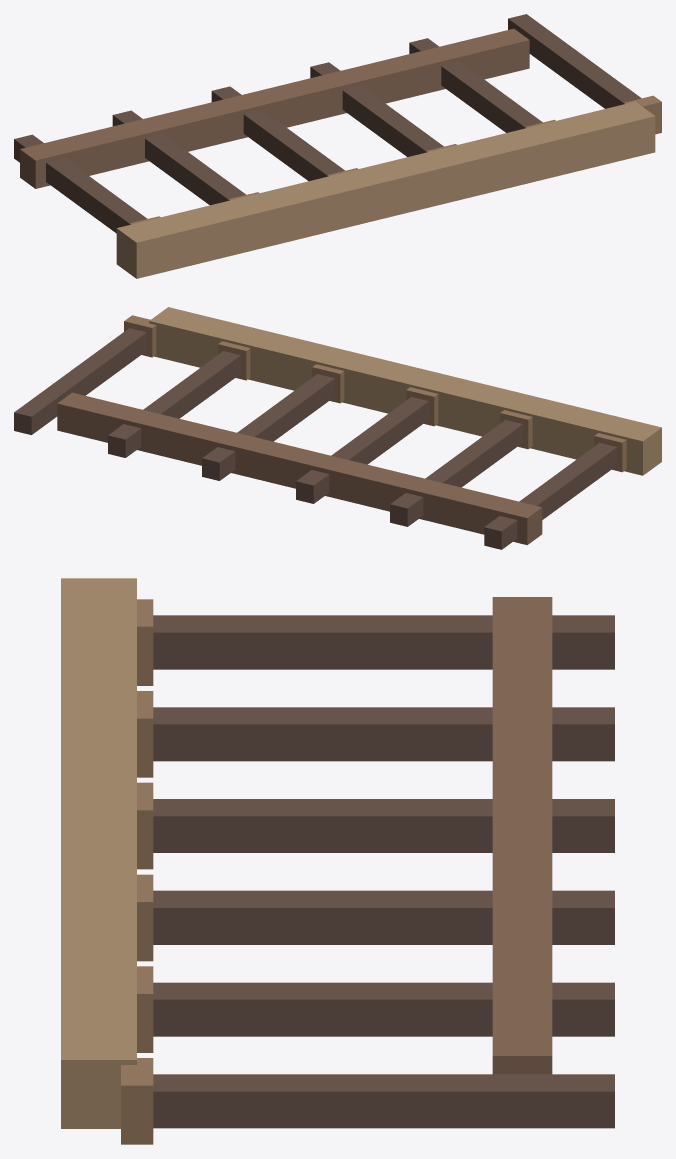
Rendered from balcony_railing_segment_2m.glb.
3 renders of one model, top to bottom at view 1: azimuth 30°, elevation 25°; view 2: azimuth 150°, elevation 25°; view 3: azimuth 270°, elevation 25°, orthographic. The views are drawn at different scales.
Visible parts, largest first — view 1: balcony_railing_segment_2m_012, balcony_railing_segment_2m_013, balcony_railing_segment_2m_010, balcony_railing_segment_2m_000, balcony_railing_segment_2m_004, balcony_railing_segment_2m_006, balcony_railing_segment_2m_008, balcony_railing_segment_2m_002, balcony_railing_segment_2m_011; view 2: balcony_railing_segment_2m_012, balcony_railing_segment_2m_013, balcony_railing_segment_2m_010, balcony_railing_segment_2m_000, balcony_railing_segment_2m_002, balcony_railing_segment_2m_008, balcony_railing_segment_2m_004, balcony_railing_segment_2m_006, balcony_railing_segment_2m_011, balcony_railing_segment_2m_003, balcony_railing_segment_2m_005, balcony_railing_segment_2m_001 (+2 smaller); view 3: balcony_railing_segment_2m_012, balcony_railing_segment_2m_013, balcony_railing_segment_2m_010, balcony_railing_segment_2m_000, balcony_railing_segment_2m_002, balcony_railing_segment_2m_006, balcony_railing_segment_2m_008, balcony_railing_segment_2m_004, balcony_railing_segment_2m_011, balcony_railing_segment_2m_005, balcony_railing_segment_2m_007, balcony_railing_segment_2m_001 (+2 smaller).
Boxes of the visible parts, x1,y1,x2,y2 form: balcony_railing_segment_2m_012: [116, 101, 655, 278]; balcony_railing_segment_2m_013: [20, 28, 529, 188]; balcony_railing_segment_2m_010: [508, 14, 641, 108]; balcony_railing_segment_2m_000: [14, 134, 147, 233]; balcony_railing_segment_2m_004: [211, 86, 344, 181]; balcony_railing_segment_2m_006: [310, 62, 443, 156]; balcony_railing_segment_2m_008: [409, 38, 542, 132]; balcony_railing_segment_2m_002: [112, 110, 246, 205]; balcony_railing_segment_2m_011: [623, 95, 661, 134]; balcony_railing_segment_2m_012: [149, 307, 661, 475]; balcony_railing_segment_2m_013: [57, 392, 542, 545]; balcony_railing_segment_2m_010: [14, 328, 146, 434]; balcony_railing_segment_2m_000: [484, 443, 617, 549]; balcony_railing_segment_2m_002: [390, 420, 522, 526]; balcony_railing_segment_2m_008: [108, 351, 240, 457]; balcony_railing_segment_2m_004: [296, 397, 428, 503]; balcony_railing_segment_2m_006: [202, 374, 334, 480]; balcony_railing_segment_2m_011: [124, 315, 156, 357]; balcony_railing_segment_2m_003: [500, 410, 532, 449]; balcony_railing_segment_2m_005: [406, 387, 438, 426]; balcony_railing_segment_2m_001: [594, 433, 626, 472]; balcony_railing_segment_2m_012: [61, 578, 136, 1128]; balcony_railing_segment_2m_013: [492, 597, 552, 1074]; balcony_railing_segment_2m_010: [153, 1074, 614, 1128]; balcony_railing_segment_2m_000: [153, 615, 614, 669]; balcony_railing_segment_2m_002: [153, 707, 614, 761]; balcony_railing_segment_2m_006: [153, 890, 614, 944]; balcony_railing_segment_2m_008: [153, 982, 614, 1036]; balcony_railing_segment_2m_004: [153, 799, 614, 852]; balcony_railing_segment_2m_011: [121, 1058, 153, 1144]; balcony_railing_segment_2m_005: [137, 782, 153, 869]; balcony_railing_segment_2m_007: [137, 874, 153, 961]; balcony_railing_segment_2m_001: [137, 599, 153, 685].
Bounding box in the file's own units: 2.19 × 0.14 × 1.02.
